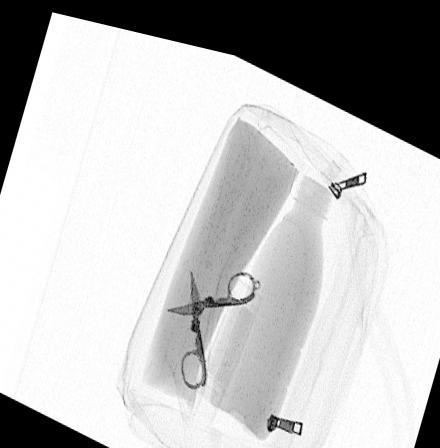Scissors: (164, 257, 263, 382)
